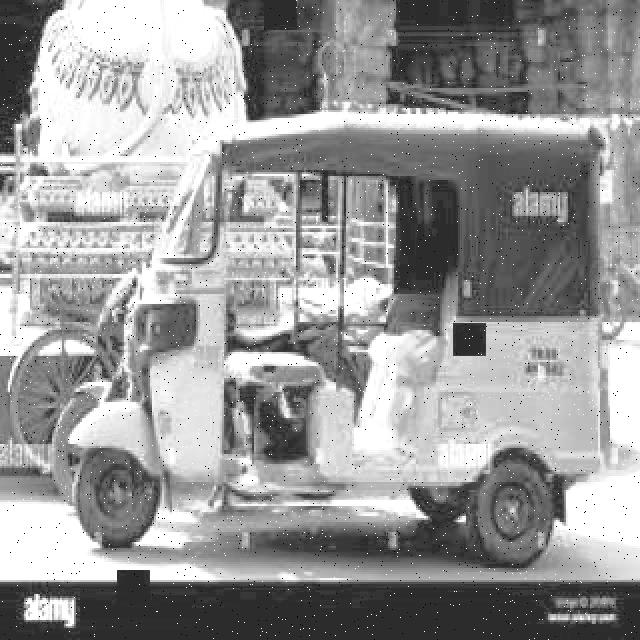Auto-Rickshaw: (114, 128, 602, 572)
